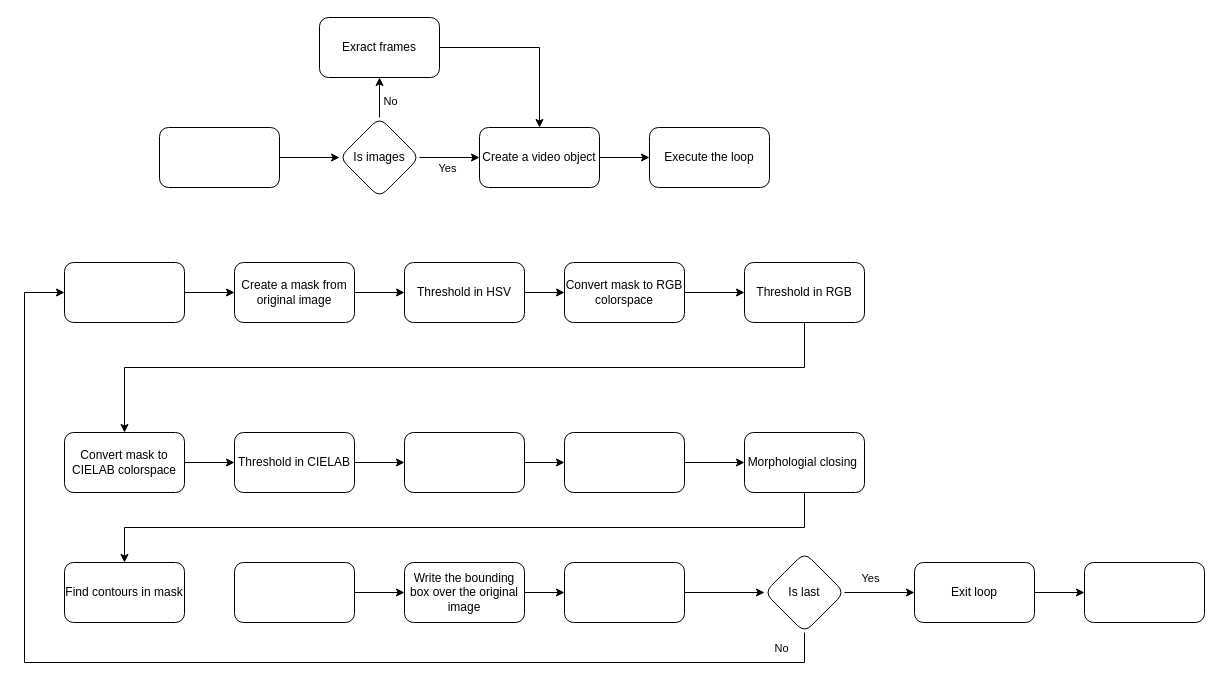
The diagram is 1222 pixels wide and 688 high, and some of its shapes have lost their labels. Here are the shapes that lost their labels. From the top down, the centre of each, then its label:
At [219,157]: "Input".
At [124,292]: "Read the image".
At [464,462]: "Binarise mask".
At [624,462]: "Morphological opening".
At [294,592]: "Draw bounding box on contours".
At [624,592]: "Write this new image to the video".
At [1144,592]: "Free video object".
